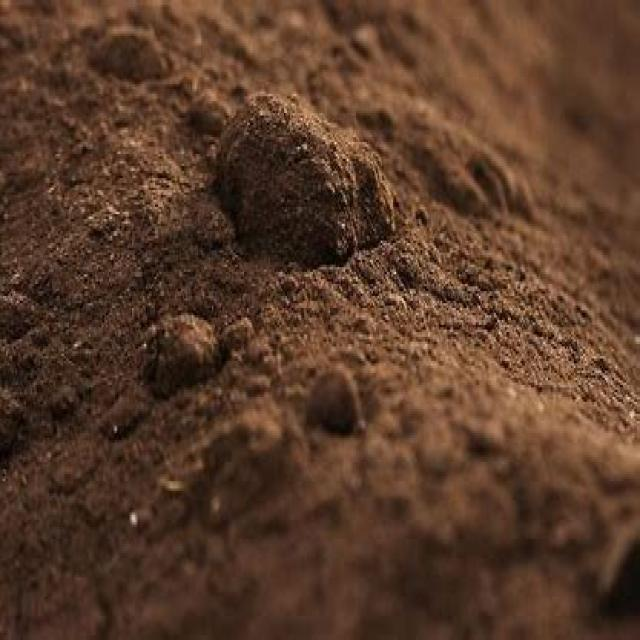Alluvial Soil: (76, 86, 578, 505)
